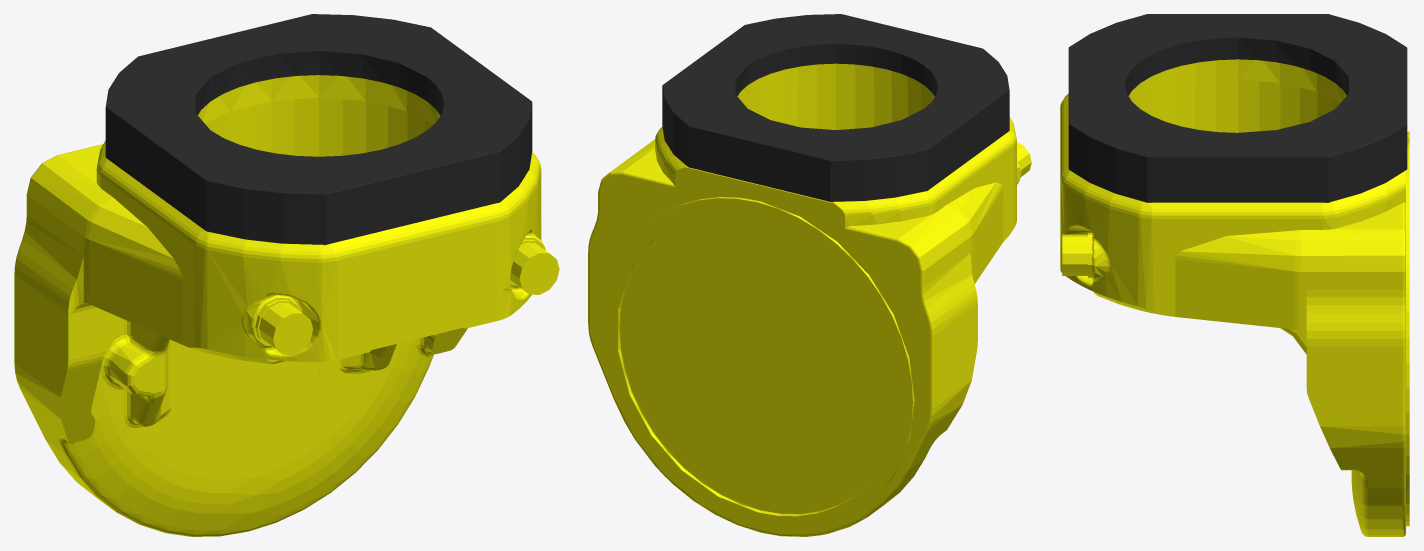
3 renders of one model, left to right at view 1: azimuth 30°, elevation 25°; view 2: azimuth 150°, elevation 25°; view 3: azimuth 270°, elevation 25°, orthographic. The views are drawn at different scales.
Parts seen in each view (by area): view 1: node; view 2: node; view 3: node.
Boxes of the visible parts, x1,y1,x2,y2 form: node: (14,14,559,536); node: (588,14,1031,536); node: (1060,14,1409,536).
Bounding box in the file's own units: 138 × 149 × 109.
